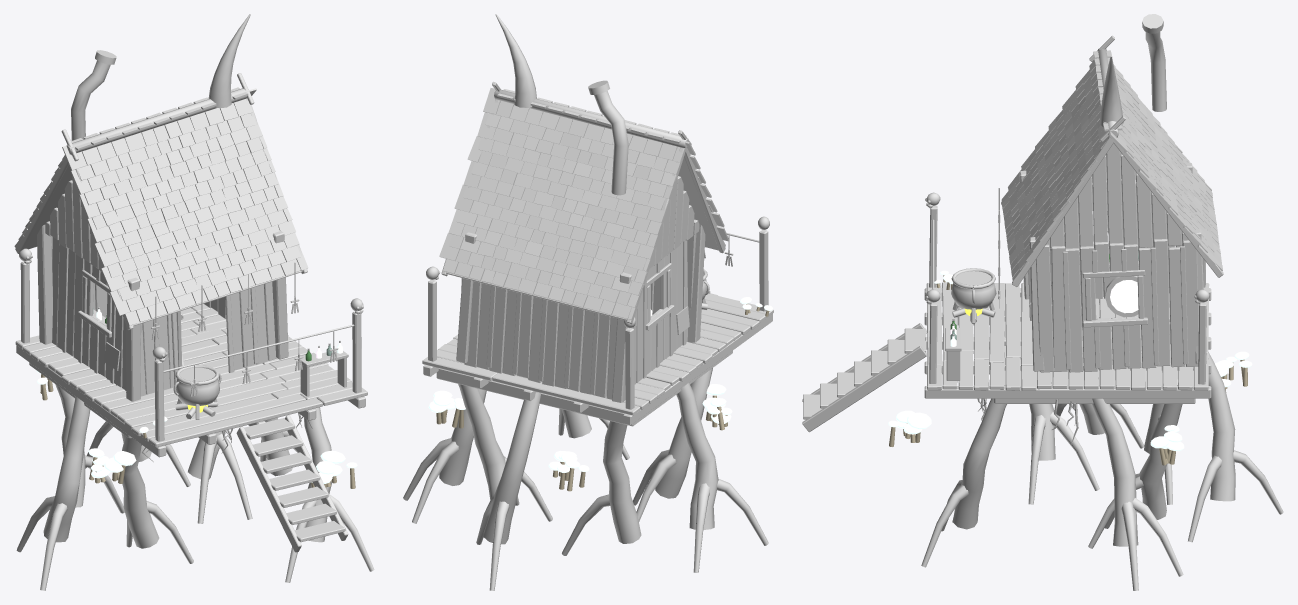
File: WitchHut.fbx
3 renders of one model, left to right at view 1: azimuth 30°, elevation 25°; view 2: azimuth 150°, elevation 25°; view 3: azimuth 270°, elevation 25°, orthographic.
Visible parts, largest first — view 1: WitchHut__wood_dark, WitchHut__wood_moss, WitchHut__bark, WitchHut__shingle_a, WitchHut__shingle_c, WitchHut__wood_b, WitchHut__moss, WitchHut__iron, WitchHut__wood_wet, WitchHut__glow_mushroom, WitchHut__rope_dk, WitchHut__bone (+2 smaller); view 2: WitchHut__bark, WitchHut__wood_dark, WitchHut__wood_moss, WitchHut__shingle_c, WitchHut__shingle_a, WitchHut__moss, WitchHut__wood_b, WitchHut__wood_wet, WitchHut__iron, WitchHut__glow_mushroom, WitchHut__mushroom_stem; view 3: WitchHut__wood_dark, WitchHut__bark, WitchHut__wood_moss, WitchHut__wood_b, WitchHut__wood_wet, WitchHut__shingle_c, WitchHut__shingle_a, WitchHut__moss, WitchHut__iron, WitchHut__glow_mushroom, WitchHut__glow_potion, WitchHut__mushroom_stem.
Part boxes in pixels (left/top/right/bottom): WitchHut__wood_dark: left=15, top=73, right=365, bottom=552; WitchHut__wood_moss: left=29, top=105, right=345, bottom=542; WitchHut__bark: left=16, top=224, right=374, bottom=590; WitchHut__shingle_a: left=14, top=87, right=285, bottom=318; WitchHut__shingle_c: left=43, top=14, right=308, bottom=302; WitchHut__wood_b: left=15, top=157, right=367, bottom=447; WitchHut__moss: left=18, top=88, right=300, bottom=315; WitchHut__iron: left=71, top=50, right=221, bottom=419; WitchHut__wood_wet: left=26, top=108, right=363, bottom=390; WitchHut__glow_mushroom: left=36, top=309, right=357, bottom=483; WitchHut__rope_dk: left=155, top=262, right=354, bottom=379; WitchHut__bone: left=19, top=248, right=363, bottom=388; WitchHut__bark: left=403, top=224, right=768, bottom=590; WitchHut__wood_dark: left=423, top=82, right=772, bottom=426; WitchHut__wood_moss: left=422, top=116, right=759, bottom=403; WitchHut__shingle_c: left=443, top=14, right=724, bottom=311; WitchHut__shingle_a: left=456, top=89, right=717, bottom=319; WitchHut__moss: left=449, top=88, right=729, bottom=307; WitchHut__wood_b: left=437, top=234, right=773, bottom=415; WitchHut__wood_wet: left=439, top=205, right=699, bottom=394; WitchHut__iron: left=588, top=80, right=709, bottom=303; WitchHut__glow_mushroom: left=428, top=297, right=772, bottom=472; WitchHut__mushroom_stem: left=436, top=303, right=769, bottom=491; WitchHut__wood_dark: left=802, top=35, right=1223, bottom=432; WitchHut__bark: left=921, top=162, right=1283, bottom=590; WitchHut__wood_moss: left=803, top=48, right=1221, bottom=419; WitchHut__wood_b: left=926, top=176, right=1209, bottom=390; WitchHut__wood_wet: left=925, top=143, right=1196, bottom=372; WitchHut__shingle_c: left=1010, top=50, right=1222, bottom=282; WitchHut__shingle_a: left=1002, top=76, right=1221, bottom=264; WitchHut__moss: left=1004, top=68, right=1216, bottom=277; WitchHut__iron: left=951, top=14, right=1166, bottom=323; WitchHut__glow_mushroom: left=888, top=270, right=1252, bottom=451; WitchHut__glow_potion: left=950, top=280, right=1138, bottom=334; WitchHut__mushroom_stem: left=889, top=275, right=1247, bottom=465.
Bounding box in the file's own units: 27.67 × 40.83 × 35.76.
